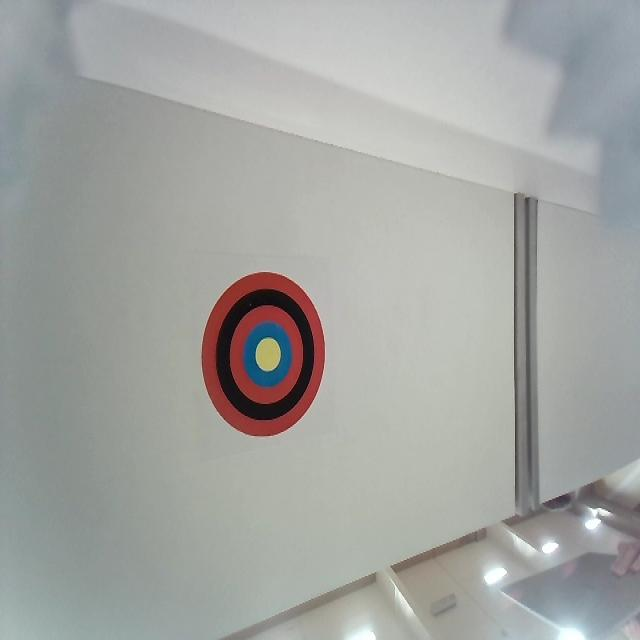cogn: (200, 270, 327, 440)
